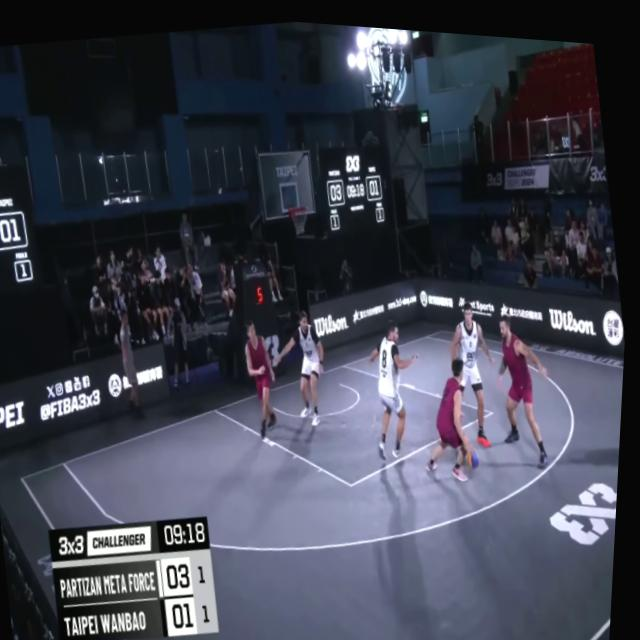ball: (469, 436, 489, 468)
hoop: (287, 194, 317, 236)
player: (485, 297, 571, 467), (410, 340, 488, 487), (364, 310, 440, 458), (442, 292, 513, 445), (271, 299, 336, 424), (240, 314, 291, 437)
